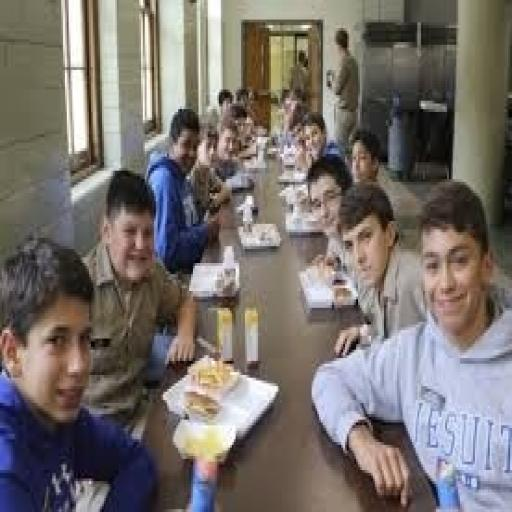eating: (2, 84, 508, 506)
